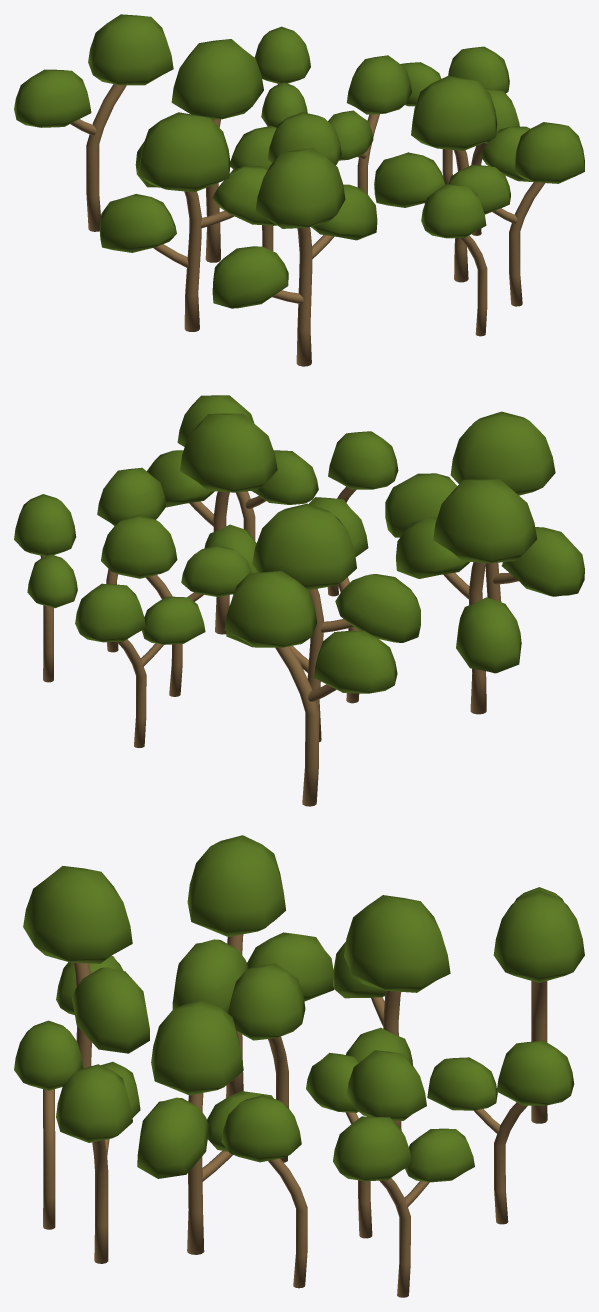
The model's file is Resource_Tree_Group.glb.
3 renders of one model, top to bottom at view 1: azimuth 30°, elevation 25°; view 2: azimuth 150°, elevation 25°; view 3: azimuth 270°, elevation 25°, orthographic. The views are drawn at different scales.
Visible parts, largest first — view 1: Resource_Tree_Group; view 2: Resource_Tree_Group; view 3: Resource_Tree_Group.
Boxes of the visible parts, left/top/right/bottom form: Resource_Tree_Group: left=14, top=14, right=584, bottom=366; Resource_Tree_Group: left=14, top=395, right=584, bottom=806; Resource_Tree_Group: left=14, top=835, right=584, bottom=1297.
Size of the model in its own units: 1.97 by 0.9265 by 1.86.
